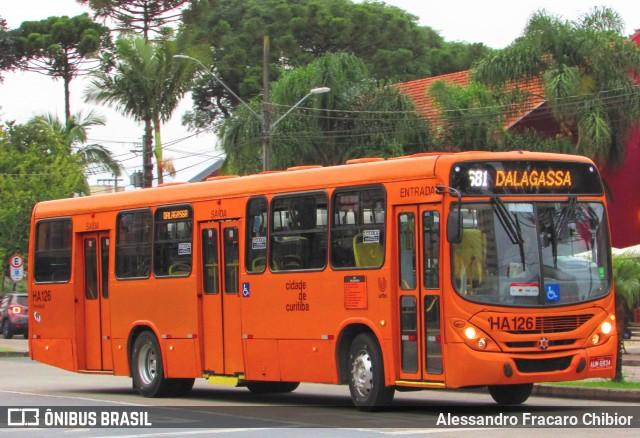DALAGASSA: (491, 166, 574, 192)
